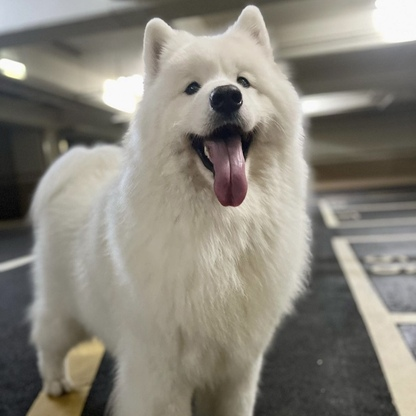samoyed: (22, 1, 316, 416)
